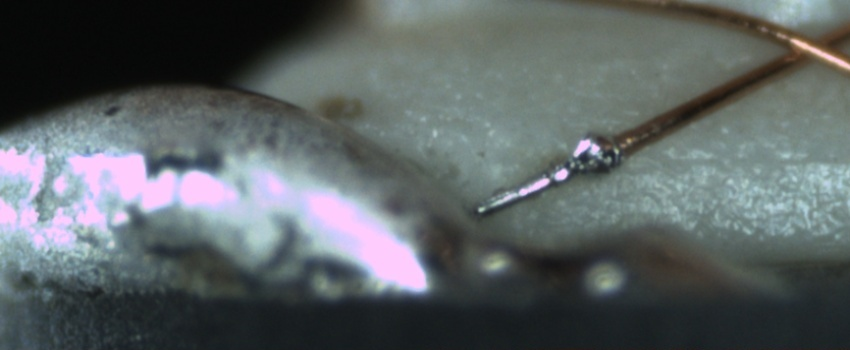CL: (766, 17, 848, 75)
DL: (619, 131, 850, 195)
TB: (567, 128, 622, 178)
TS: (472, 143, 620, 216)
TTCW: (476, 119, 652, 215)
